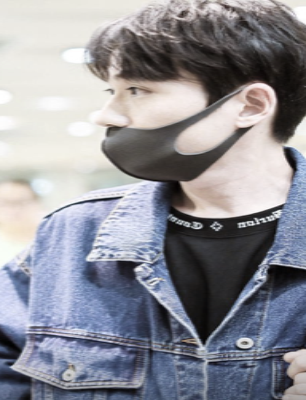mask_weared_incorrect: (94, 72, 227, 182)
